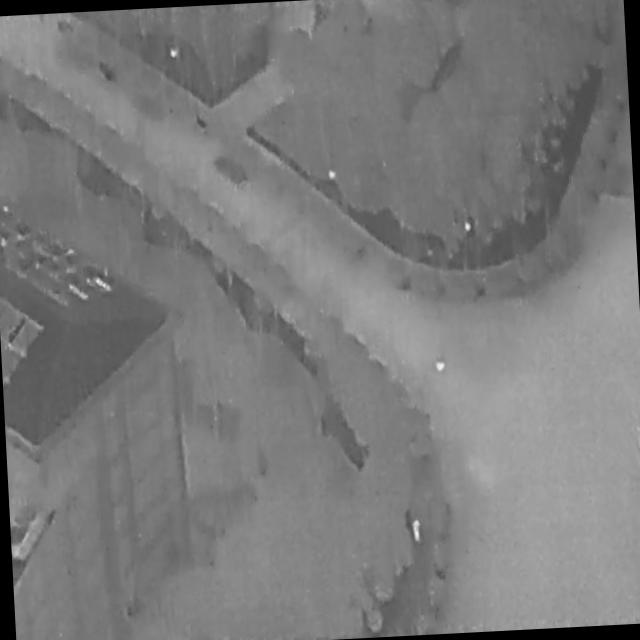person: (414, 519, 422, 544)
